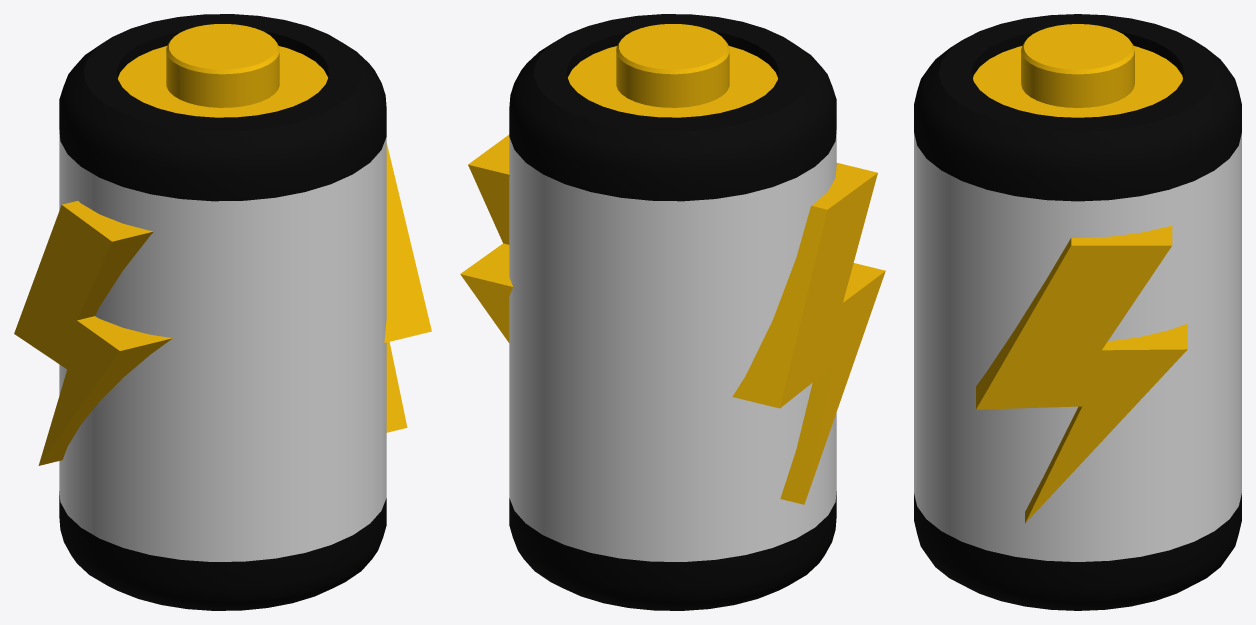
File: Boost 1.fbx
The picture shows the model from 3 angles, left to right: view 1: azimuth 30°, elevation 25°; view 2: azimuth 150°, elevation 25°; view 3: azimuth 270°, elevation 25°; orthographic projection.
Visible parts, largest first — view 1: Cylinder.016, Cube.008, Cube.009; view 2: Cylinder.016, Cube.008, Cube.009; view 3: Cylinder.016, Cube.009.
Boxes of the visible parts, x1=… form: Cylinder.016: x1=59, y1=14, x2=386, y2=610; Cube.008: x1=14, y1=201, x2=172, y2=465; Cube.009: x1=384, y1=143, x2=431, y2=432; Cylinder.016: x1=509, y1=14, x2=836, y2=610; Cube.008: x1=732, y1=163, x2=885, y2=504; Cube.009: x1=460, y1=134, x2=512, y2=342; Cylinder.016: x1=914, y1=14, x2=1241, y2=610; Cube.009: x1=976, y1=225, x2=1187, y2=523.
Bounding box in the file's own units: 0.4447 × 0.68 × 0.4.
